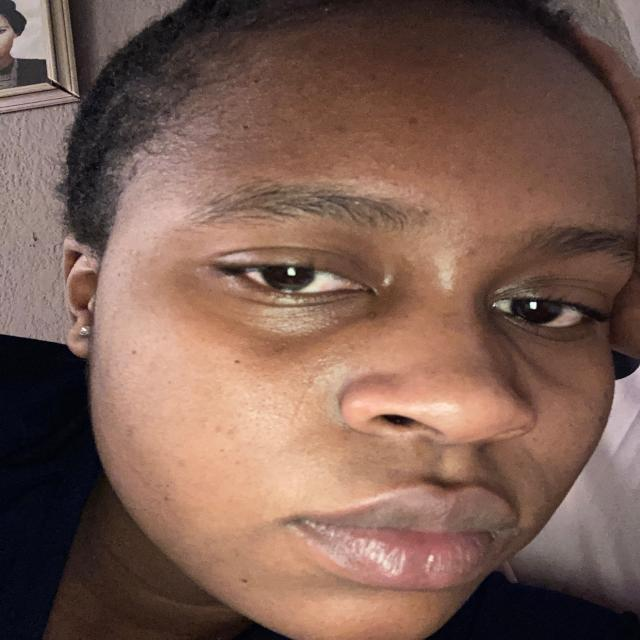Acne: (336, 158, 424, 180), (295, 122, 354, 143), (371, 453, 406, 481), (113, 418, 142, 445), (201, 417, 236, 438), (418, 365, 471, 378), (449, 242, 479, 264), (160, 480, 180, 507), (228, 122, 260, 138), (398, 112, 426, 130), (169, 452, 192, 469), (246, 72, 269, 88), (450, 48, 475, 62), (516, 183, 538, 198)
Eyebags: (179, 284, 395, 364), (488, 307, 601, 387)
Wrinkles: (520, 438, 558, 506)
